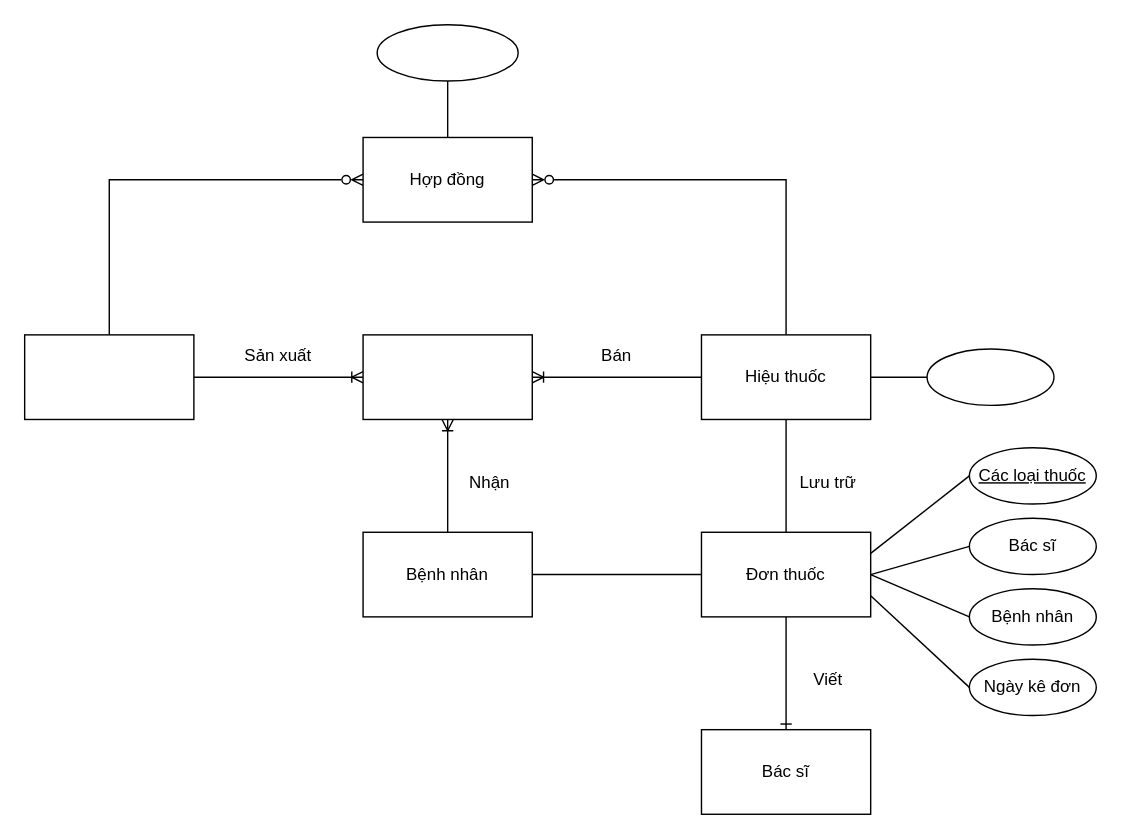
The diagram is 1121 pixels wide and 839 high, and some of its shapes have lost their labels. Here are the shapes that lost their labels. From the top down, the box of each, then its label:
(376, 23, 518, 81): Số hợp đồng
(23, 333, 194, 419): Công ty dược phẩm
(362, 333, 532, 419): Thuốc
(926, 348, 1054, 405): Mã hiệu thuốc
